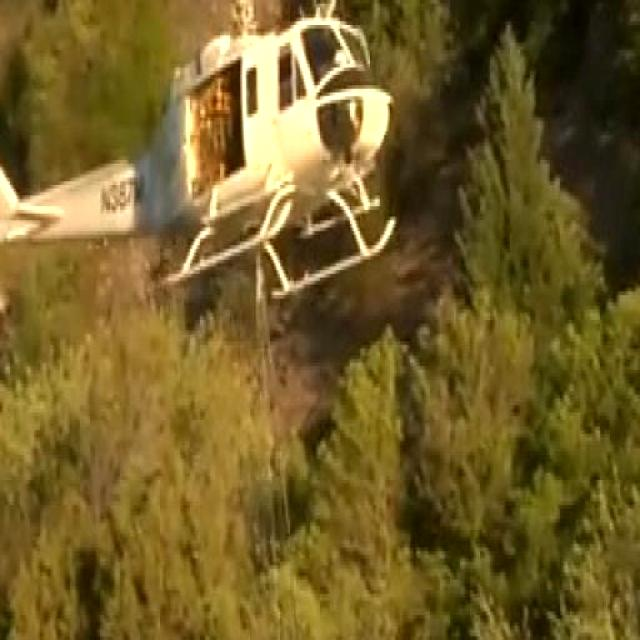drone: (0, 0, 480, 332)
